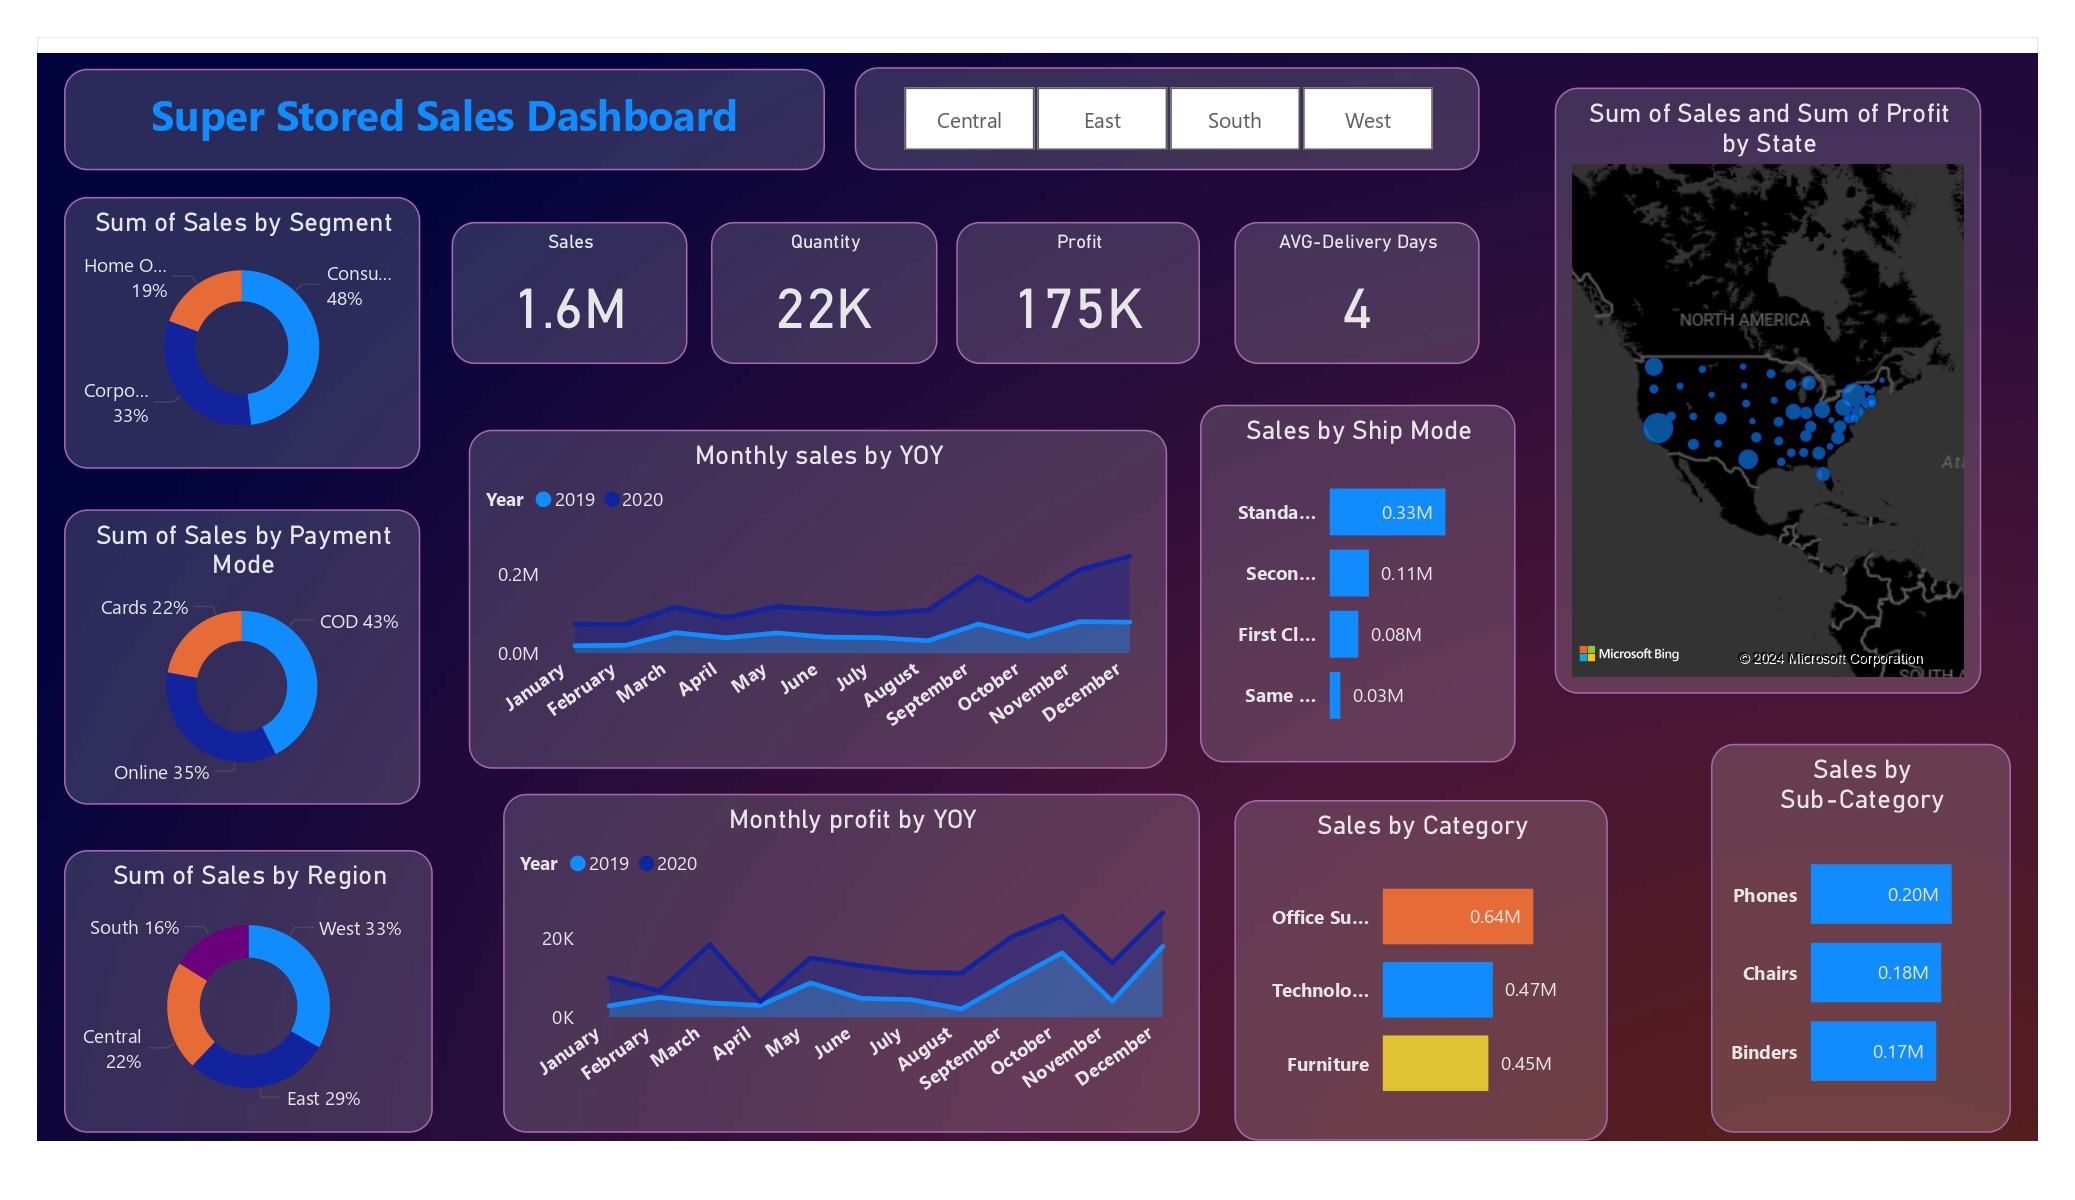

The page's visual inventory and layout, read from the dashboard file:
{"tool":"powerbi","page":{"name":"Page 1","canvas":[1280,720],"ordinal":0},"visuals":[{"type":"clusteredBarChart","title":"Sales by Category","fields":{"Category":["SuperStore_Sales_Dataset.Category"],"Y":["Sum(SuperStore_Sales_Dataset.Sales)"]},"box":[766.1,488.2,239,217.4],"z":0},{"type":"clusteredBarChart","title":"Sales by Sub-Category","fields":{"Category":["SuperStore_Sales_Dataset.Sub-Category"],"Y":["Sum(SuperStore_Sales_Dataset.Sales)"]},"box":[1071.4,452.2,191.5,249.1],"z":1000},{"type":"clusteredBarChart","title":"Sales by Ship Mode","fields":{"Y":["Sum(SuperStore_Sales_Dataset.Sales)"],"Category":["SuperStore_Sales_Dataset.Ship Mode"]},"box":[744.5,234.7,201.6,229],"z":2000},{"type":"donutChart","fields":{"Y":["Sum(SuperStore_Sales_Dataset.Sales)"],"Category":["SuperStore_Sales_Dataset.Region"]},"box":[17.3,519.8,236.2,181.4],"z":3000},{"type":"slicer","fields":{"Values":["SuperStore_Sales_Dataset.Region"]},"box":[522.7,18.7,400.3,66.2],"z":4000},{"type":"textbox","box":[17.3,20.2,486.7,64.8],"z":5000},{"type":"card","title":"Sales","fields":{"Values":["Sum(SuperStore_Sales_Dataset.Sales)"]},"box":[265,118.1,151.2,90.7],"z":6000},{"type":"card","title":"Quantity","fields":{"Values":["Sum(SuperStore_Sales_Dataset.Quantity)"]},"box":[430.6,118.1,145.4,90.7],"z":7000},{"type":"card","title":"Profit","fields":{"Values":["Sum(SuperStore_Sales_Dataset.Profit)"]},"box":[587.5,118.1,157,90.7],"z":8000},{"type":"stackedAreaChart","title":" Monthly sales by YOY","fields":{"Category":["SuperStore_Sales_Dataset.Order Date.Variation.Date Hierarchy.Month","SuperStore_Sales_Dataset.Order Date.Variation.Date Hierarchy.Day"],"Y":["Sum(SuperStore_Sales_Dataset.Sales)"],"Series":["SuperStore_Sales_Dataset.Order Date.Variation.Date Hierarchy.Year"]},"box":[276.5,250.6,446.4,217.4],"z":9000},{"type":"stackedAreaChart","title":" Monthly profit by YOY","fields":{"Category":["SuperStore_Sales_Dataset.Order Date.Variation.Date Hierarchy.Month","SuperStore_Sales_Dataset.Order Date.Variation.Date Hierarchy.Day"],"Series":["SuperStore_Sales_Dataset.Order Date.Variation.Date Hierarchy.Year"],"Y":["Sum(SuperStore_Sales_Dataset.Profit)"]},"box":[298.1,483.8,446.4,217.4],"z":10000},{"type":"donutChart","fields":{"Category":["SuperStore_Sales_Dataset.Payment Mode"],"Y":["Sum(SuperStore_Sales_Dataset.Sales)"]},"box":[17.3,302.4,227.5,188.6],"z":11000},{"type":"map","fields":{"Category":["SuperStore_Sales_Dataset.State"],"Size":["Sum(SuperStore_Sales_Dataset.Sales)"]},"box":[970.6,31.7,273.6,388.8],"z":12000},{"type":"card","title":"AVG-Delivery Days","fields":{"Values":["Avg(SuperStore_Sales_Dataset.AvgDelivaryDays)"]},"box":[766.1,118.1,157,90.7],"z":13000},{"type":"donutChart","fields":{"Category":["SuperStore_Sales_Dataset.Segment"],"Y":["Sum(SuperStore_Sales_Dataset.Sales)"]},"box":[17.3,102.2,227.5,174.2],"z":13001}]}

Visuals, with their boxes in screenshot pixels (x1, y1, x2, y2):
"Sales by Category" clusteredBarChart: left=1235, top=800, right=1608, bottom=1140
"Sales by Sub-Category" clusteredBarChart: left=1712, top=744, right=2011, bottom=1133
"Sales by Ship Mode" clusteredBarChart: left=1201, top=404, right=1516, bottom=762
donutChart - Sum(SuperStore_Sales_Dataset.Sales) x SuperStore_Sales_Dataset.Region: left=65, top=850, right=434, bottom=1133
slicer - SuperStore_Sales_Dataset.Region: left=854, top=67, right=1480, bottom=170
textbox: left=65, top=69, right=825, bottom=170
"Sales" card: left=452, top=222, right=688, bottom=364
"Quantity" card: left=710, top=222, right=938, bottom=364
"Profit" card: left=955, top=222, right=1201, bottom=364
" Monthly sales by YOY" stackedAreaChart: left=470, top=429, right=1167, bottom=769
" Monthly profit by YOY" stackedAreaChart: left=503, top=793, right=1201, bottom=1133
donutChart - SuperStore_Sales_Dataset.Payment Mode x Sum(SuperStore_Sales_Dataset.Sales): left=65, top=510, right=420, bottom=805
map - SuperStore_Sales_Dataset.State x Sum(SuperStore_Sales_Dataset.Sales): left=1554, top=87, right=1982, bottom=695
"AVG-Delivery Days" card: left=1235, top=222, right=1480, bottom=364
donutChart - SuperStore_Sales_Dataset.Segment x Sum(SuperStore_Sales_Dataset.Sales): left=65, top=197, right=420, bottom=469
